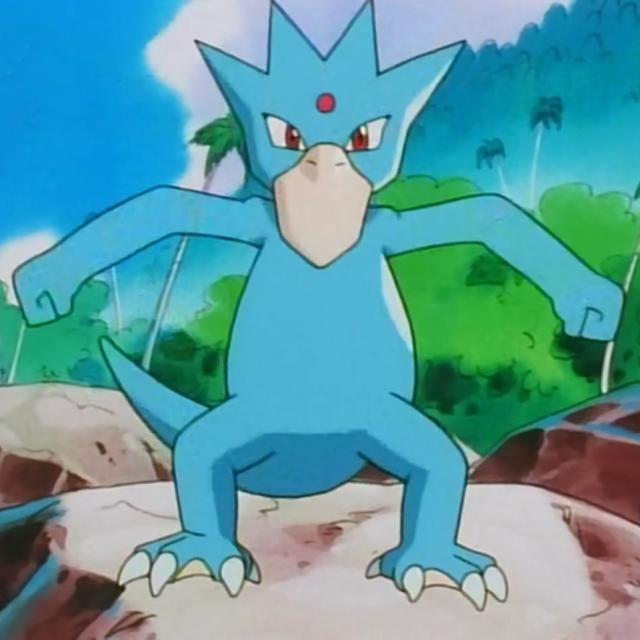Golduck: (109, 7, 512, 614)
